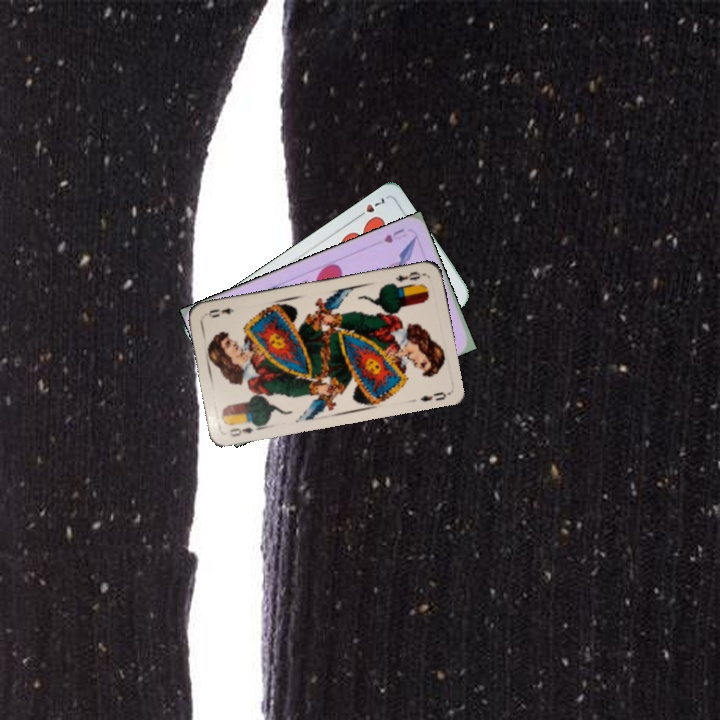EO: (225, 417, 263, 439), (392, 267, 427, 285)
H7: (353, 194, 387, 221)
HU: (380, 224, 409, 246)
